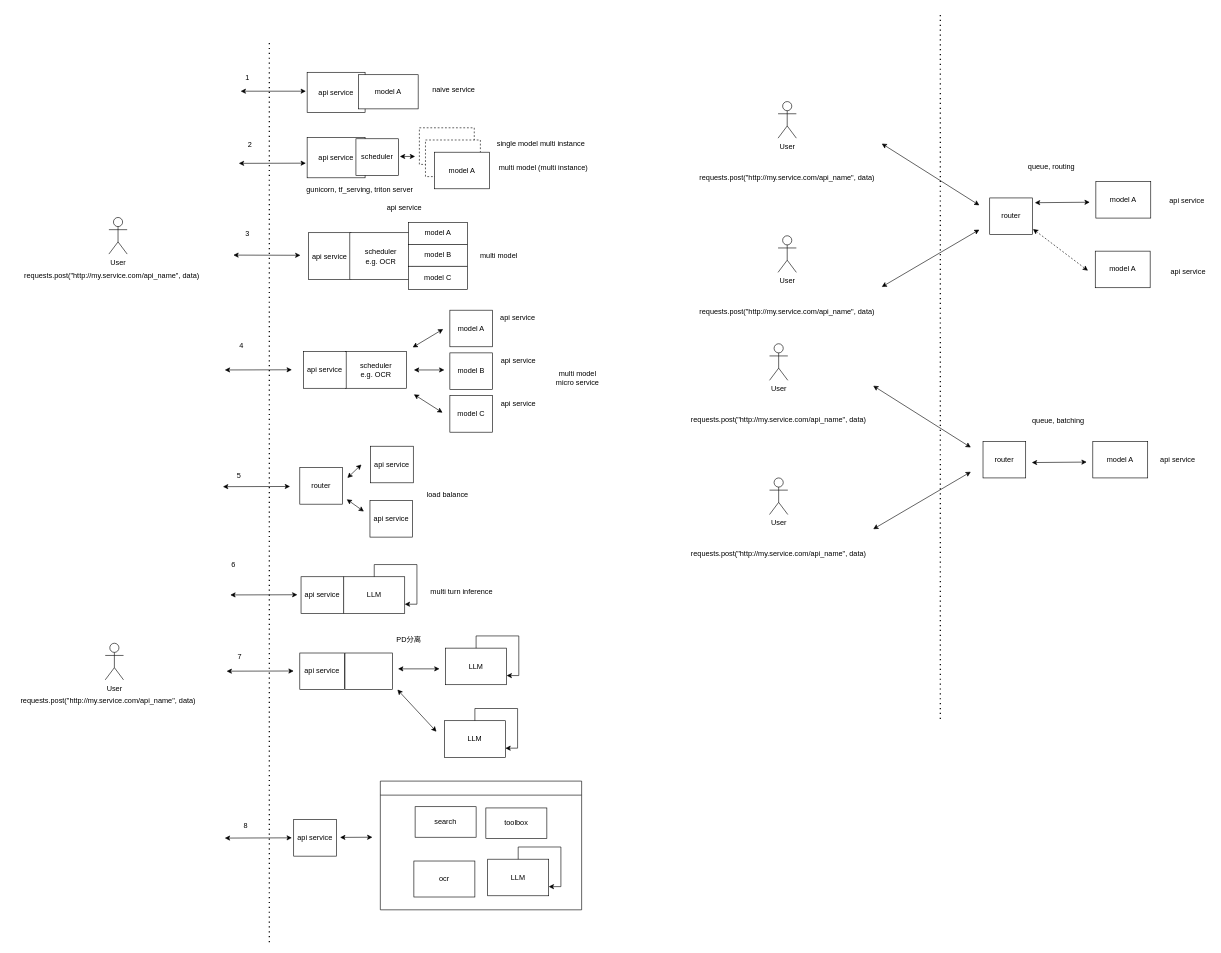
Some shapes in this 1221 by 953 pixel diagram are drawn without their labels. The box of each missing label's shape, as (x1, y1, x2, y2) in pixels:
scheduler e.g. LLM: (344, 652, 393, 690)
Workflow/ e.g. RAG Execute graph: (380, 780, 582, 910)
